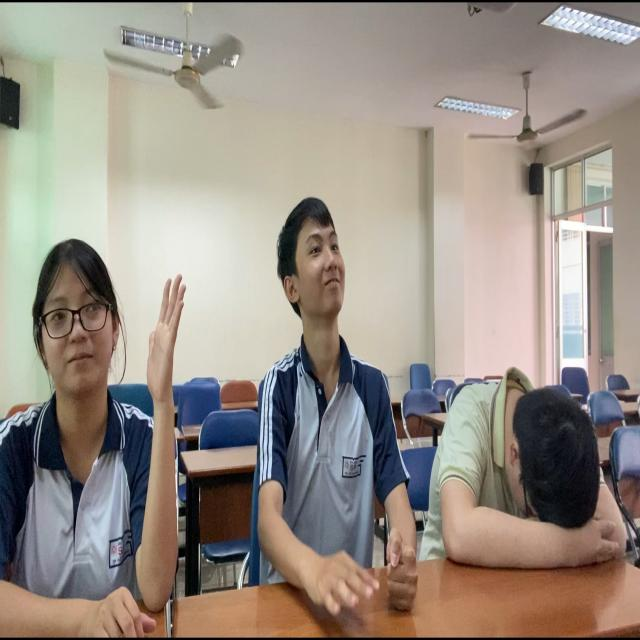raise_hand: (1, 209, 205, 640)
sleep: (416, 355, 635, 578)
